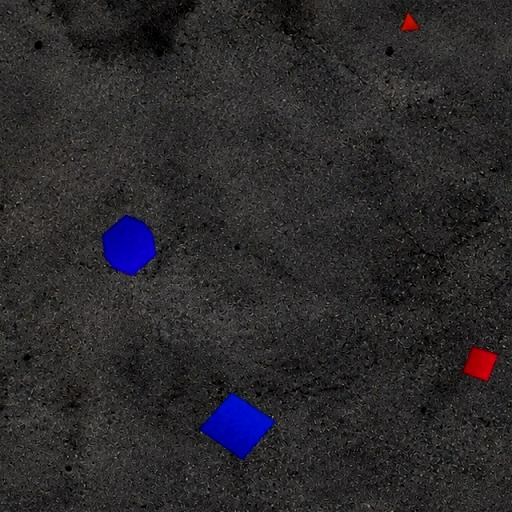BLUE_SQUARE: (198, 391, 276, 461)
RED_SQUARE: (461, 346, 498, 382)
